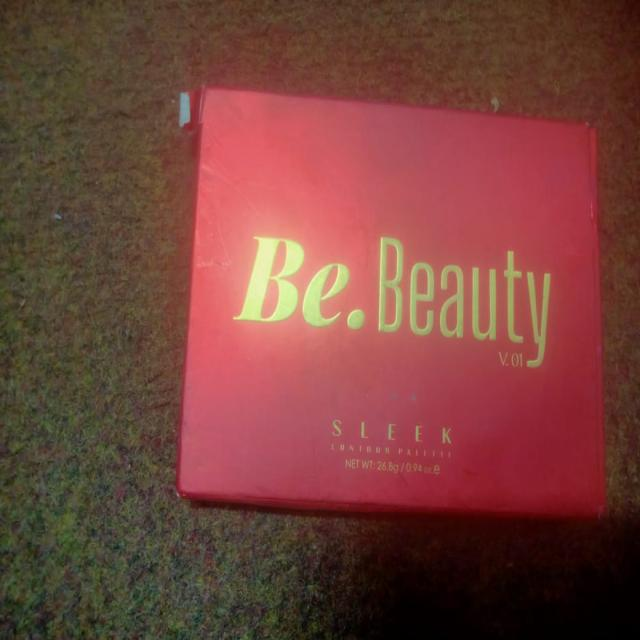makeup: (170, 69, 622, 548)
